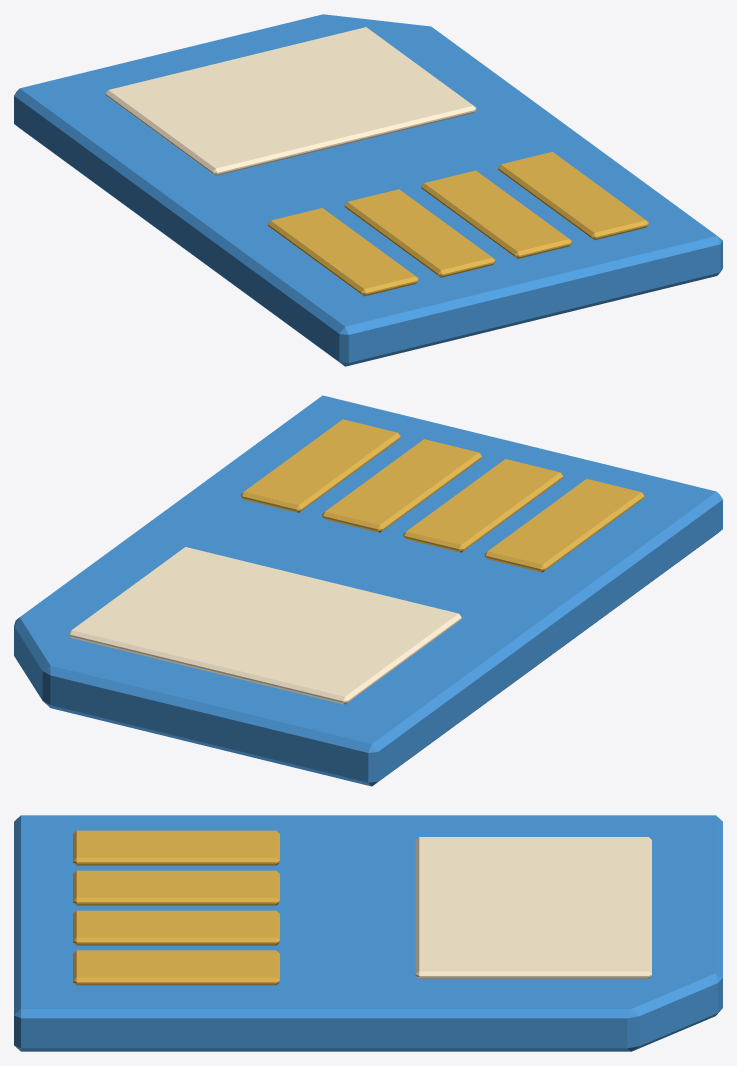
Rendered from cargo_sd_card.glb.
3 renders of one model, top to bottom at view 1: azimuth 30°, elevation 25°; view 2: azimuth 150°, elevation 25°; view 3: azimuth 270°, elevation 25°, orthographic. The views are drawn at different scales.
Visible parts, largest first — view 1: CargoSdCard; view 2: CargoSdCard; view 3: CargoSdCard.
Part boxes in pixels (x1,y1,x2,y2): CargoSdCard: (14, 14, 722, 366); CargoSdCard: (14, 395, 722, 786); CargoSdCard: (14, 815, 722, 1051).
Bounding box in the file's own units: 0.08 × 0.0095 × 0.12.
